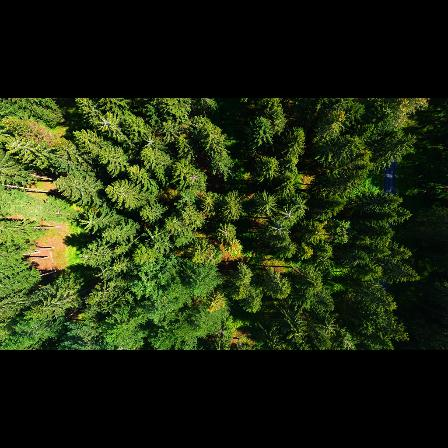Sick: (214, 221, 236, 243), (140, 134, 161, 154), (279, 205, 296, 224)
